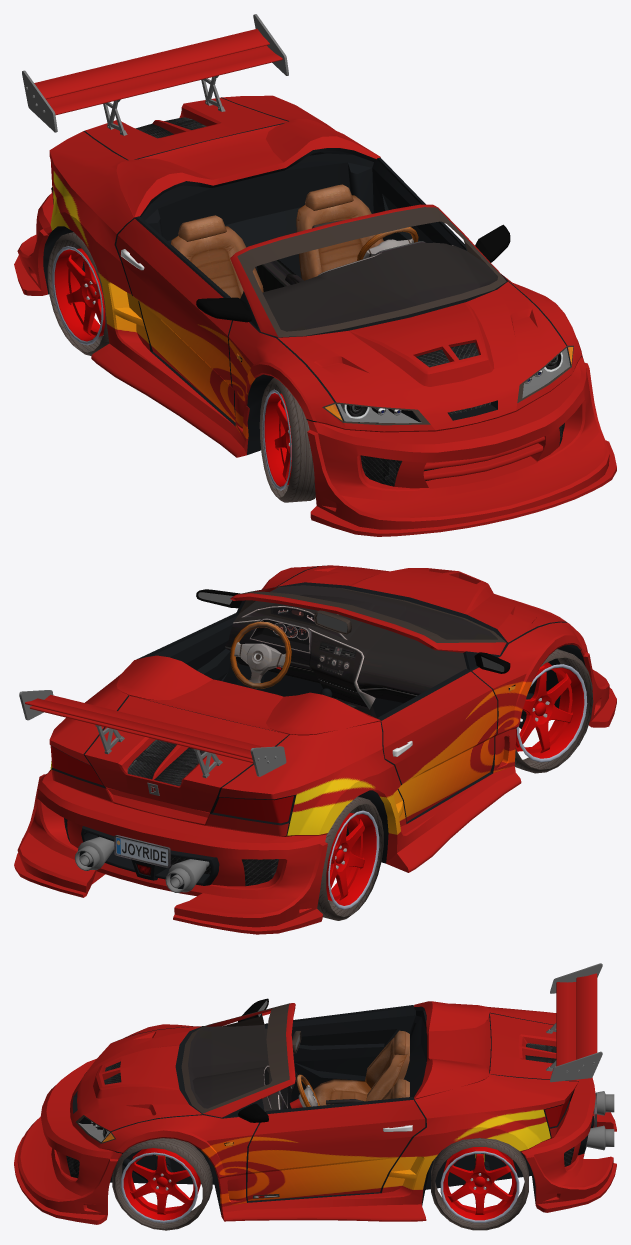
Rendered from Red.glb.
3 renders of one model, top to bottom at view 1: azimuth 30°, elevation 25°; view 2: azimuth 150°, elevation 25°; view 3: azimuth 270°, elevation 25°, orthographic. The views are drawn at different scales.
Parts seen in each view (by area): view 1: node_id256, node_id232, node_id230, node_id164, node_id250, node_id254, node_id203, node_id264, node_id200, node_id174, node_id260, node_id194 (+7 smaller); view 2: node_id256, node_id230, node_id232, node_id254, node_id194, node_id164, node_id203, node_id260, node_id238, node_id269, node_id162, node_id209 (+5 smaller); view 3: node_id256, node_id232, node_id230, node_id254, node_id212, node_id221, node_id164, node_id227, node_id174, node_id250, node_id218, node_id162 (+6 smaller).
Boxes of the visible parts, box(x1,y1,x2,y2) form: node_id256: box(17, 95, 609, 529); node_id232: box(43, 97, 581, 454); node_id230: box(240, 241, 497, 331); node_id164: box(34, 29, 282, 114); node_id250: box(237, 207, 573, 425); node_id254: box(14, 255, 616, 536); node_id203: box(52, 246, 105, 345); node_id264: box(296, 184, 383, 280); node_id200: box(259, 378, 315, 502); node_id174: box(171, 226, 263, 298); node_id260: box(135, 117, 564, 486); node_id194: box(262, 389, 291, 490); node_id256: box(17, 565, 609, 927); node_id230: box(225, 585, 497, 718); node_id232: box(50, 565, 585, 885); node_id254: box(14, 687, 616, 934); node_id194: box(515, 662, 587, 762); node_id164: box(25, 694, 264, 763); node_id203: box(326, 810, 379, 909); node_id260: box(64, 739, 278, 886); node_id238: box(50, 746, 293, 823); node_id269: box(230, 621, 291, 688); node_id162: box(19, 690, 286, 778); node_id209: box(317, 796, 383, 920); node_id256: box(17, 1001, 613, 1215); node_id232: box(72, 1005, 594, 1216); node_id230: box(188, 1025, 363, 1111); node_id254: box(14, 1115, 616, 1224); node_id212: box(440, 1147, 519, 1222); node_id221: box(121, 1148, 200, 1223); node_id164: box(556, 973, 597, 1066); node_id227: box(112, 1138, 212, 1230); node_id174: box(313, 1038, 409, 1105); node_id250: box(76, 1003, 289, 1143); node_id218: box(431, 1138, 528, 1230); node_id162: box(546, 963, 602, 1082).
Bounding box in the file's own units: 0.512 × 0.3377 × 1.07.
51 materials, 51 textured.
